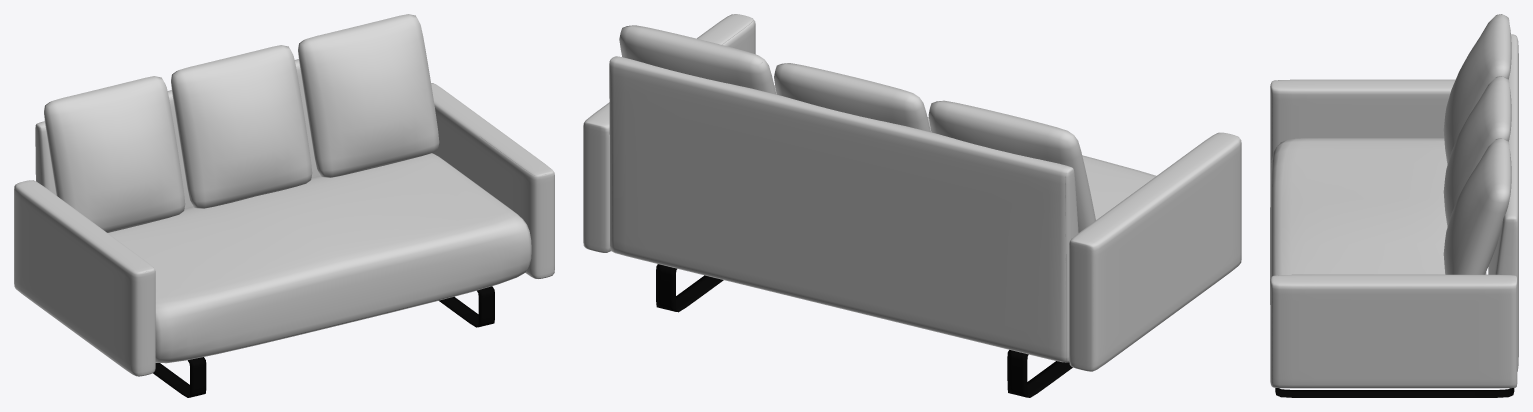
File: couch.fbx
3 views of the same model, side by side, from view 1: azimuth 30°, elevation 25°; view 2: azimuth 150°, elevation 25°; view 3: azimuth 270°, elevation 25° (orthographic). The views are drawn at different scales.
Visible parts, largest first — view 1: Cube.001, Cube.002; view 2: Cube.001, Cube.002; view 3: Cube.001, Cube.002.
Boxes of the visible parts, bbox=[...] form: Cube.001: bbox=[14, 14, 554, 376]; Cube.002: bbox=[153, 286, 494, 397]; Cube.001: bbox=[583, 14, 1241, 371]; Cube.002: bbox=[656, 264, 1072, 397]; Cube.001: bbox=[1270, 14, 1518, 388]; Cube.002: bbox=[1275, 388, 1514, 397].
Bounding box in the file's own units: 232 × 117 × 118.
Materials: 2 (2 with a texture image).
